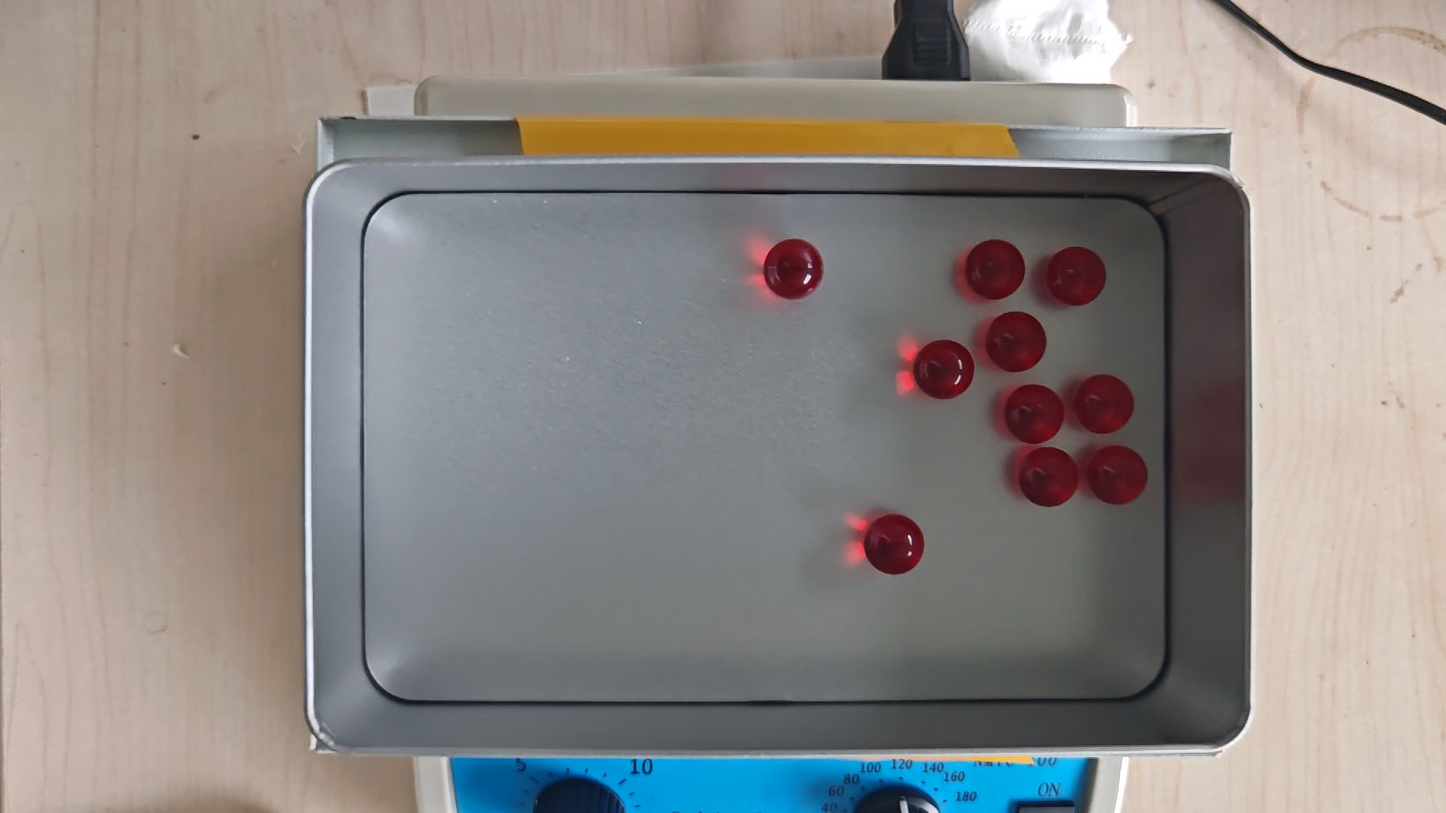ball: (1086, 444, 1149, 507), (1017, 447, 1079, 508), (864, 513, 924, 576), (914, 339, 975, 400), (965, 239, 1026, 300), (764, 238, 824, 300), (1046, 246, 1106, 307), (1073, 374, 1134, 434), (987, 311, 1047, 372), (1005, 384, 1064, 444)
container: (357, 192, 1169, 701)
